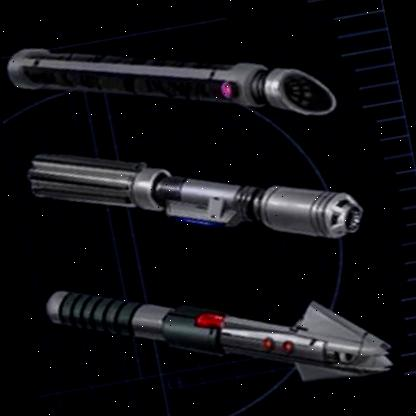sith_lightsaber: (31, 231, 409, 416), (27, 113, 364, 285), (0, 0, 335, 162)
